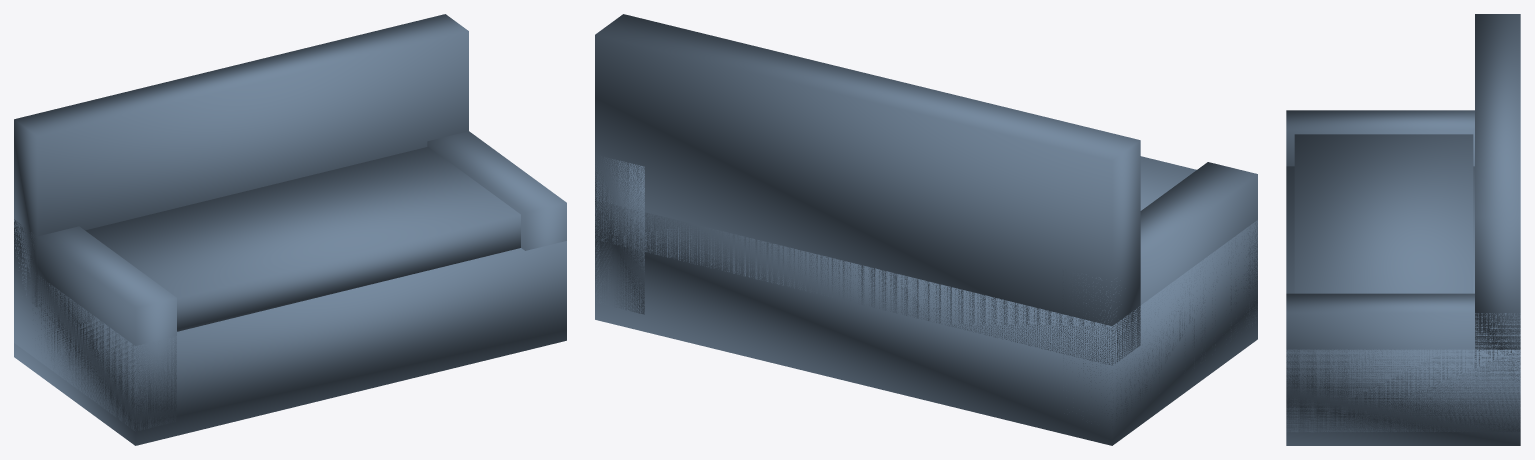
Rendered from loveseat__squat.glb.
3 renders of one model, left to right at view 1: azimuth 30°, elevation 25°; view 2: azimuth 150°, elevation 25°; view 3: azimuth 270°, elevation 25°, orthographic. The views are drawn at different scales.
Visible parts, largest first — view 1: world; view 2: world; view 3: world.
Part boxes in pixels (x1,y1,x2,y2): world: (14, 14, 566, 445); world: (595, 14, 1257, 445); world: (1286, 14, 1520, 445).
Size of the model in its own units: 1.6 by 0.8652 by 0.7776.
